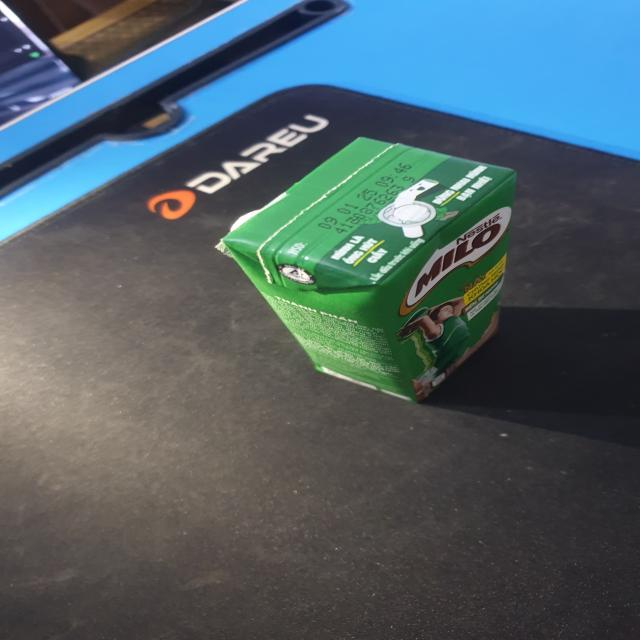Milo: (221, 131, 523, 409)
